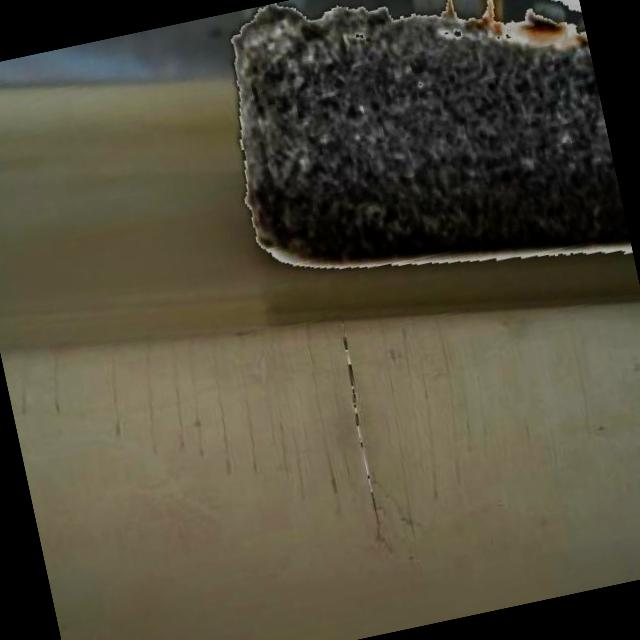crack: (330, 322, 390, 539)
